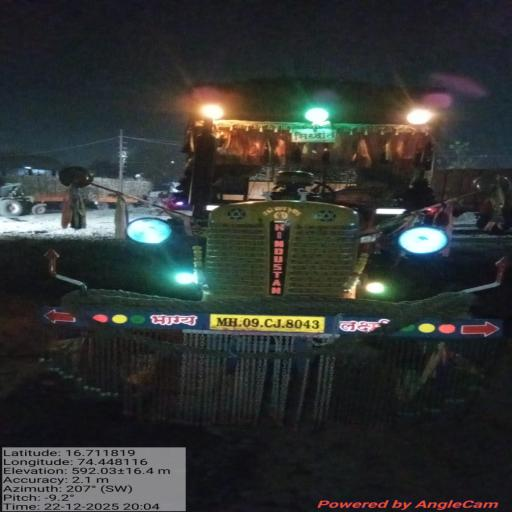number_plate: (208, 311, 334, 338)
